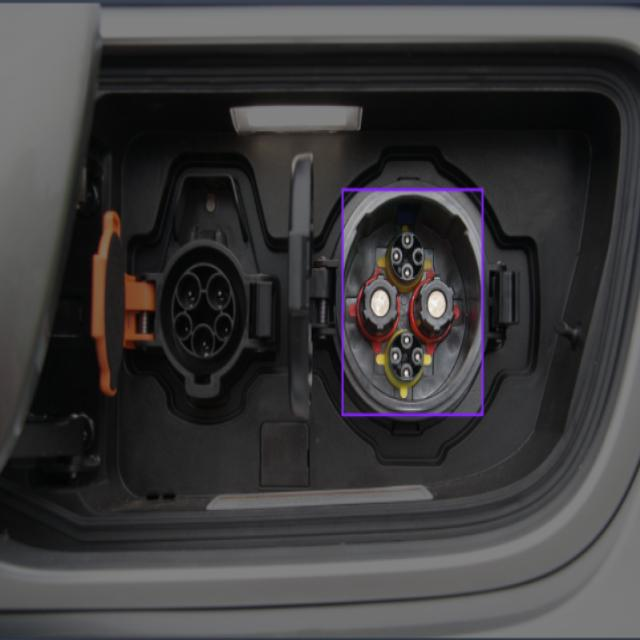CHAdeMO: (342, 190, 483, 418)
